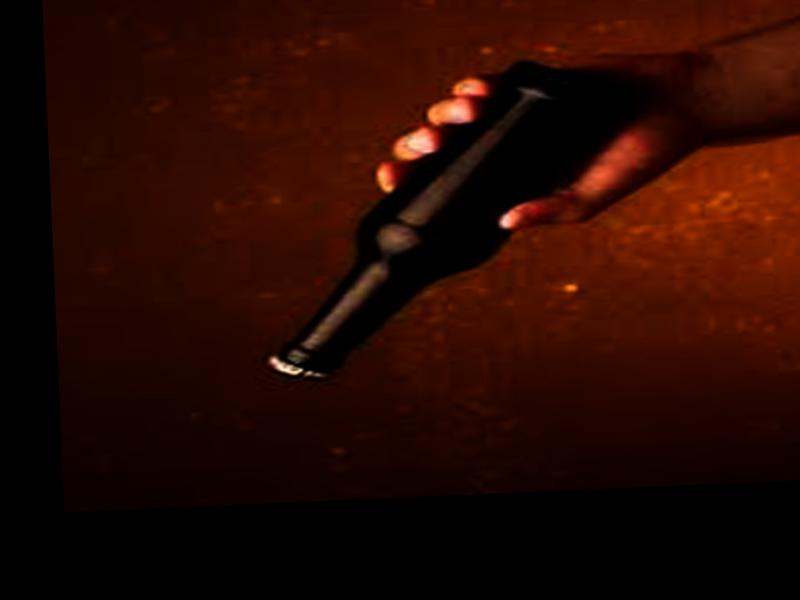Beer: (250, 56, 663, 383)
